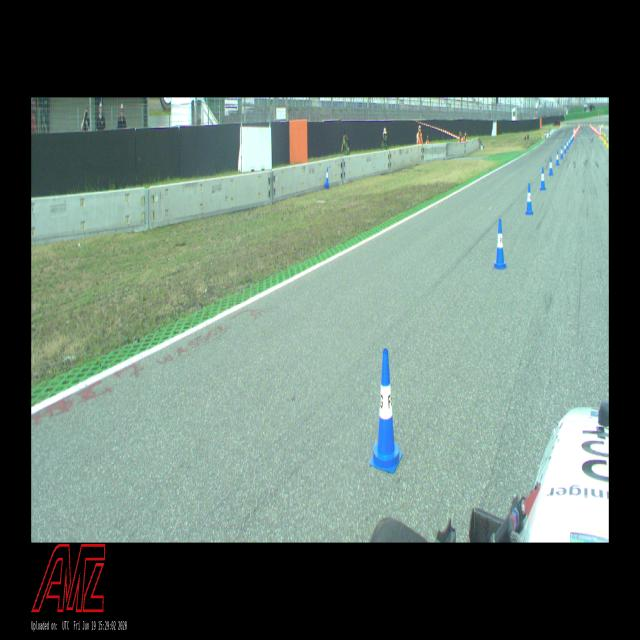blue_cone: (372, 349, 402, 473), (494, 218, 507, 270), (526, 185, 534, 216), (540, 167, 546, 191), (548, 157, 554, 176), (325, 166, 329, 188), (556, 150, 560, 166), (560, 146, 564, 160), (563, 142, 567, 154), (567, 140, 569, 150), (568, 137, 570, 147), (570, 135, 572, 144), (572, 133, 574, 140), (571, 135, 573, 141)
large_orange_cone: (599, 126, 601, 136)
orange_cone: (598, 129, 598, 136)
yellow_cone: (606, 136, 609, 148), (604, 134, 606, 146), (601, 132, 603, 141), (599, 132, 601, 138)
